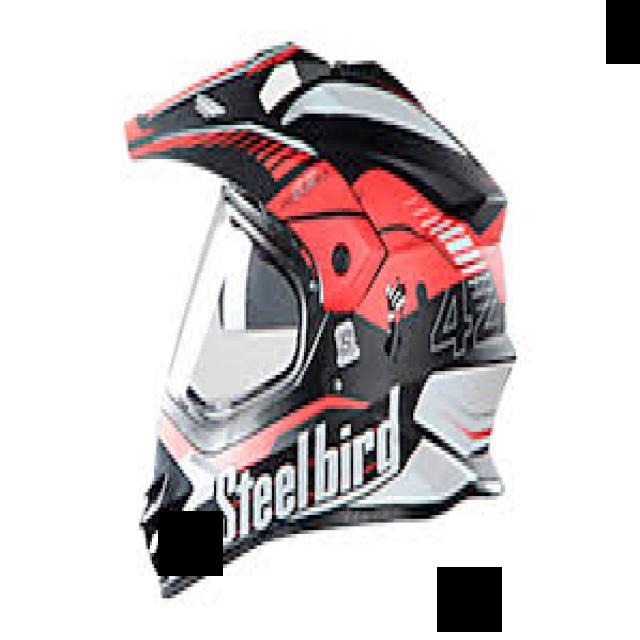Helmet: (128, 44, 515, 594)
